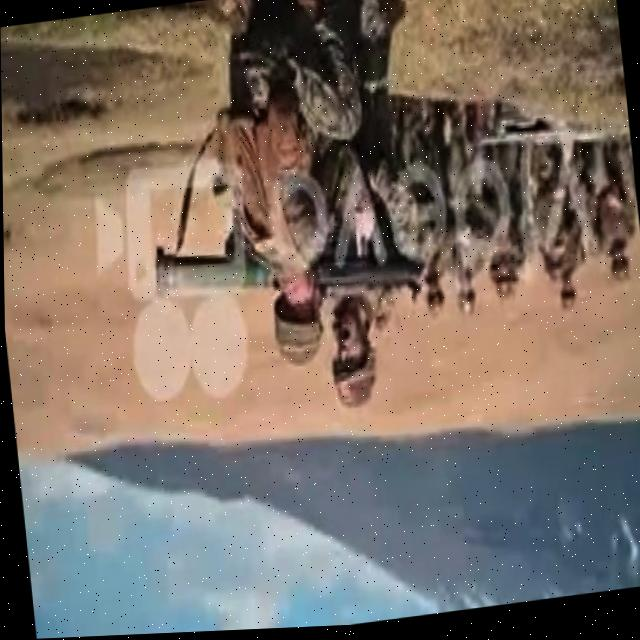rocket: (151, 219, 426, 329)
